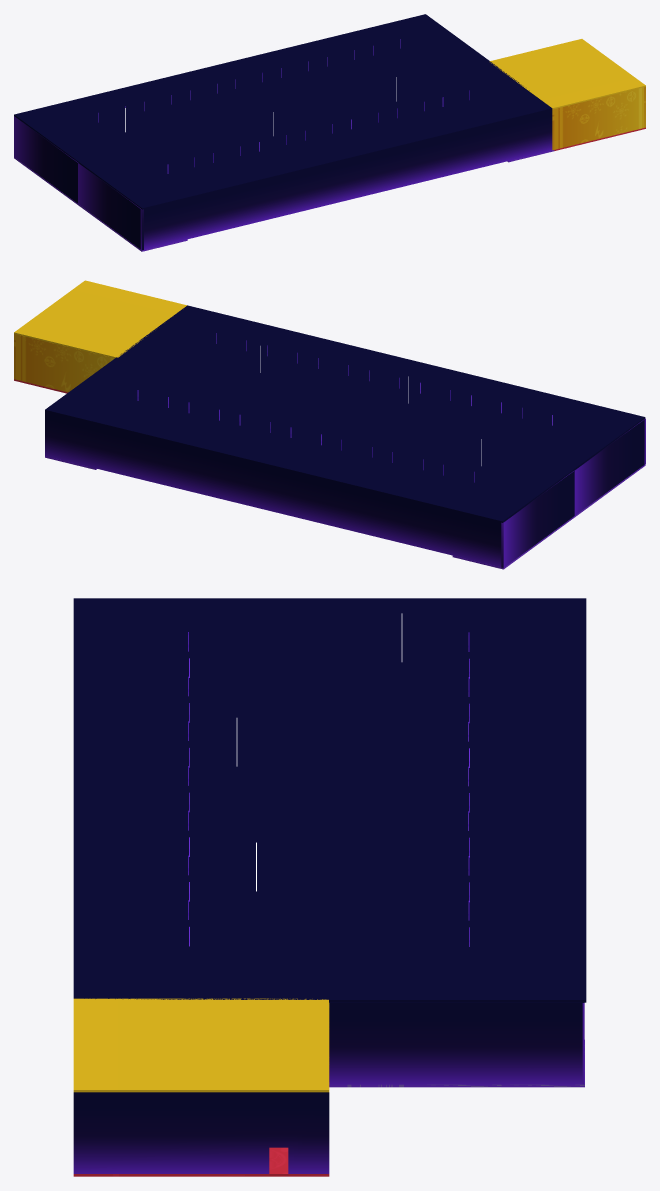
File: Stage6.gltf
3 views of the same model, one above another, from view 1: azimuth 30°, elevation 25°; view 2: azimuth 150°, elevation 25°; view 3: azimuth 270°, elevation 25° (orthographic). The views are drawn at different scales.
Visible parts, largest first — view 1: StudioCeiling.006, StudioCeiling.007, Cube.468, WelcomeCeiling.005, Cube.500, Cube.547, Cube.557; view 2: StudioCeiling.007, StudioCeiling.006, Cube.575, WelcomeCeiling.005, Cube.504, Cube.557, Cube.547; view 3: StudioCeiling.006, StudioCeiling.007, WelcomeCeiling.005, Cube.576, Cube.458.
Part boxes in pixels (box(x1,y1,x2,y2)): StudioCeiling.006: box(77, 61, 552, 209); StudioCeiling.007: box(14, 14, 489, 161); Cube.468: box(140, 109, 552, 250); WelcomeCeiling.005: box(489, 39, 645, 109); Cube.500: box(554, 87, 643, 149); Cube.547: box(78, 163, 143, 250); Cube.557: box(14, 116, 77, 203); StudioCeiling.007: box(45, 357, 573, 522); StudioCeiling.006: box(116, 305, 645, 470); Cube.575: box(45, 411, 501, 567); WelcomeCeiling.005: box(14, 280, 186, 358); Cube.504: box(16, 334, 114, 392); Cube.557: box(501, 470, 574, 567); Cube.547: box(574, 419, 644, 515); StudioCeiling.006: box(73, 598, 332, 999); StudioCeiling.007: box(328, 598, 586, 1002); WelcomeCeiling.005: box(73, 998, 328, 1092); Cube.576: box(329, 1002, 582, 1084); Cube.458: box(73, 1091, 329, 1173).
Size of the model in its own units: 153 by 19.69 by 67.5.
